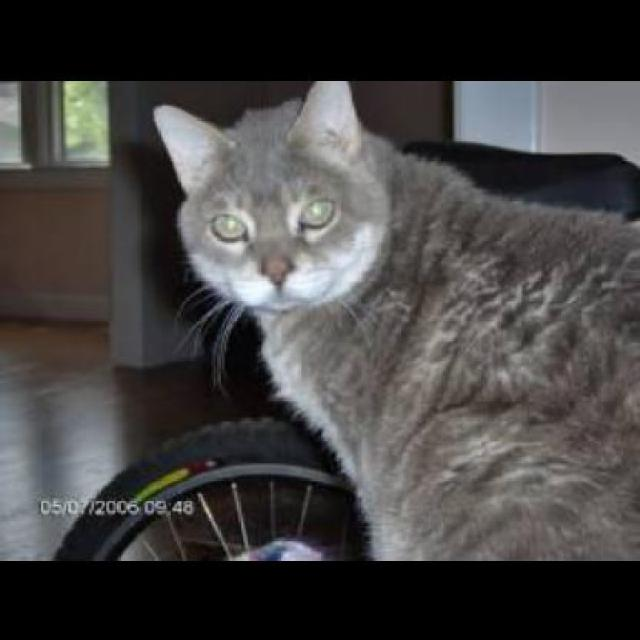unauthorized: (151, 77, 638, 560)
